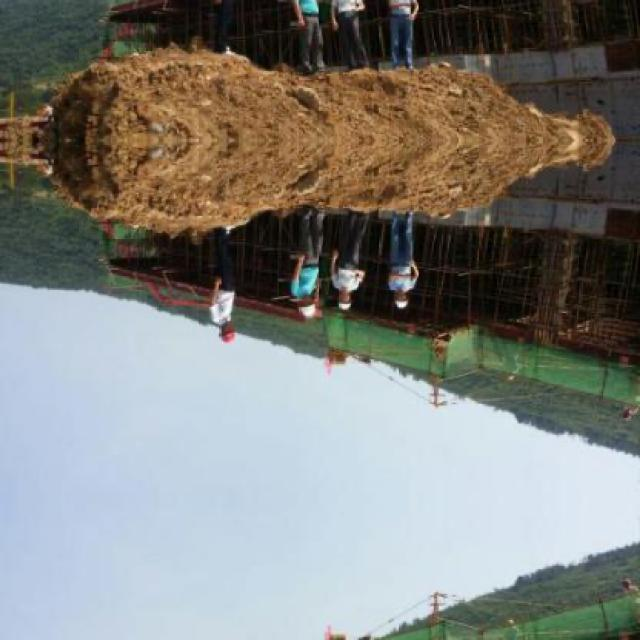sin casco: (203, 306, 243, 350), (288, 291, 330, 329), (392, 272, 420, 314), (339, 288, 356, 320)
